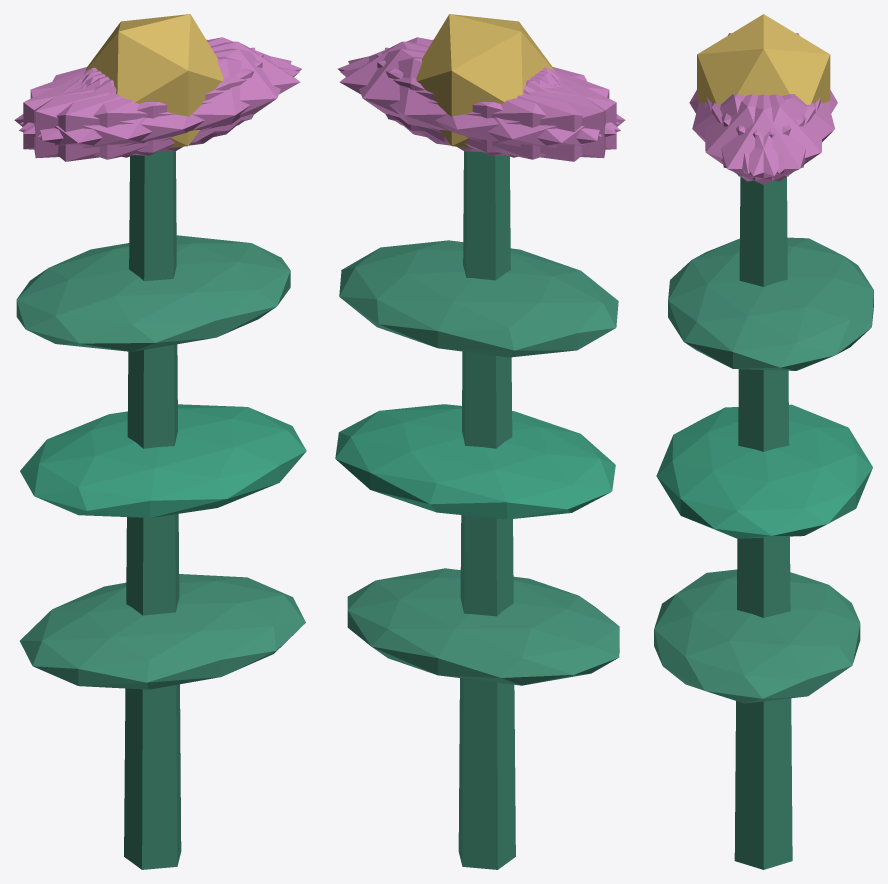
Rendered from biophytum-sensitivum.glb.
3 renders of one model, left to right at view 1: azimuth 30°, elevation 25°; view 2: azimuth 150°, elevation 25°; view 3: azimuth 270°, elevation 25°, orthographic.
Parts seen in each view (by area): view 1: stem, leaf1, leaf0, leaf2, center, petal1, petal6, petal2, petal5, petal7, petal0, petal4 (+2 smaller); view 2: stem, leaf2, leaf1, leaf0, center, petal8, petal3, petal7, petal4, petal2, petal0, petal5 (+2 smaller); view 3: stem, leaf1, leaf2, leaf0, center, petal0, petal4, petal5, petal1, petal8.
Part boxes in pixels (x1=…): stem: x1=124, y1=151, x2=181, y2=869; leaf1: x1=20, y1=404, x2=306, y2=517; leaf0: x1=20, y1=574, x2=305, y2=689; leaf2: x1=16, y1=235, x2=290, y2=351; center: x1=85, y1=14, x2=223, y2=148; petal1: x1=19, y1=56, x2=299, y2=159; petal6: x1=14, y1=69, x2=217, y2=161; petal2: x1=34, y1=47, x2=254, y2=158; petal5: x1=38, y1=48, x2=291, y2=152; petal7: x1=23, y1=53, x2=263, y2=155; petal0: x1=85, y1=41, x2=300, y2=142; petal4: x1=20, y1=37, x2=302, y2=134; stem: x1=458, y1=151, x2=515, y2=869; leaf2: x1=339, y1=240, x2=618, y2=357; leaf1: x1=335, y1=404, x2=615, y2=519; leaf0: x1=347, y1=568, x2=619, y2=685; center: x1=416, y1=14, x2=554, y2=148; petal8: x1=340, y1=56, x2=620, y2=159; petal3: x1=422, y1=69, x2=625, y2=161; petal7: x1=384, y1=47, x2=605, y2=158; petal4: x1=348, y1=48, x2=601, y2=152; petal2: x1=376, y1=53, x2=616, y2=155; petal0: x1=339, y1=41, x2=554, y2=142; petal5: x1=337, y1=37, x2=619, y2=134; stem: x1=734, y1=177, x2=792, y2=869; leaf1: x1=656, y1=404, x2=872, y2=538; leaf2: x1=668, y1=237, x2=873, y2=370; leaf0: x1=654, y1=569, x2=860, y2=703; center: x1=697, y1=14, x2=830, y2=104; petal0: x1=706, y1=94, x2=820, y2=184; petal4: x1=711, y1=94, x2=822, y2=181; petal5: x1=705, y1=94, x2=815, y2=181; petal1: x1=692, y1=94, x2=805, y2=173; petal8: x1=721, y1=94, x2=834, y2=173.
Size of the model in its own units: 0.1452 by 0.4193 by 0.1012.
